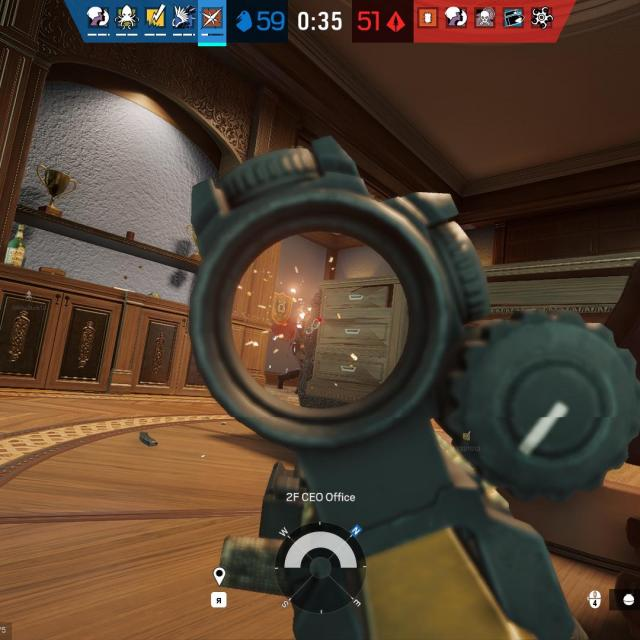Character: (278, 282, 325, 393)
Friend_label: (11, 289, 47, 311), (452, 430, 484, 453)
